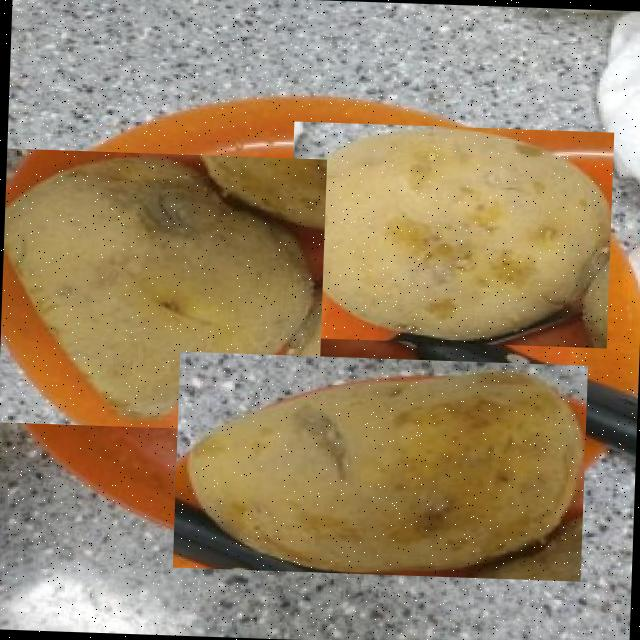Damaged potato: (0, 148, 325, 433)
Potato: (172, 351, 586, 581), (286, 121, 612, 348)
